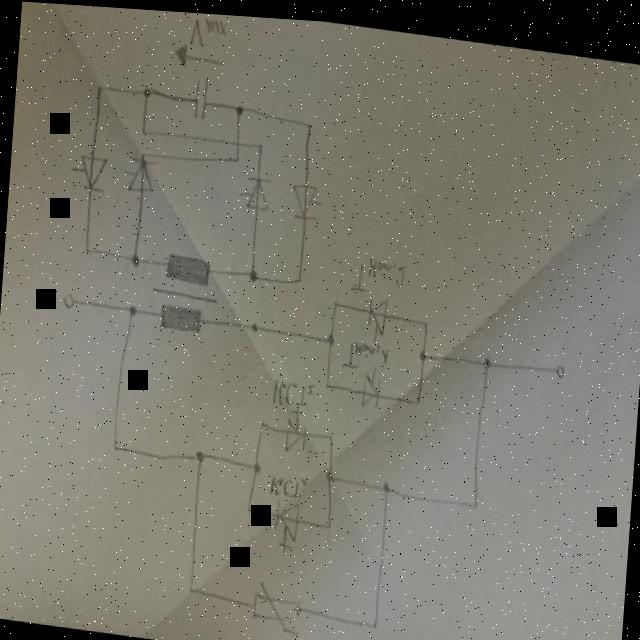capacitor: (190, 73, 210, 120)
crossover: (232, 136, 243, 147)
junction: (140, 83, 154, 99), (129, 250, 142, 267), (192, 447, 206, 462), (246, 264, 258, 281), (481, 349, 492, 365), (233, 99, 244, 115), (325, 328, 335, 344), (127, 302, 138, 316), (323, 465, 334, 479), (250, 458, 260, 471), (381, 477, 391, 490), (418, 344, 427, 357), (254, 138, 264, 149), (294, 272, 303, 283), (95, 82, 104, 93), (370, 616, 379, 627), (186, 582, 195, 593), (469, 494, 478, 505), (84, 244, 92, 256), (232, 152, 241, 162), (111, 442, 120, 452), (140, 125, 148, 136), (325, 517, 333, 527), (258, 416, 266, 425), (245, 502, 252, 512), (331, 296, 339, 304), (304, 118, 312, 126), (326, 430, 334, 438), (323, 378, 330, 387), (422, 315, 428, 323), (414, 394, 420, 402), (139, 150, 145, 157)
terminal: (60, 291, 77, 311), (553, 354, 566, 373)
text: (348, 249, 407, 294), (340, 334, 390, 369), (270, 374, 315, 407), (188, 12, 228, 49), (268, 466, 308, 497)
thyristor: (270, 493, 300, 555), (68, 152, 108, 193), (288, 178, 322, 219), (120, 154, 154, 194), (236, 172, 272, 209), (282, 401, 308, 451), (364, 289, 388, 339), (358, 359, 382, 404)
transformer: (148, 248, 220, 335)
